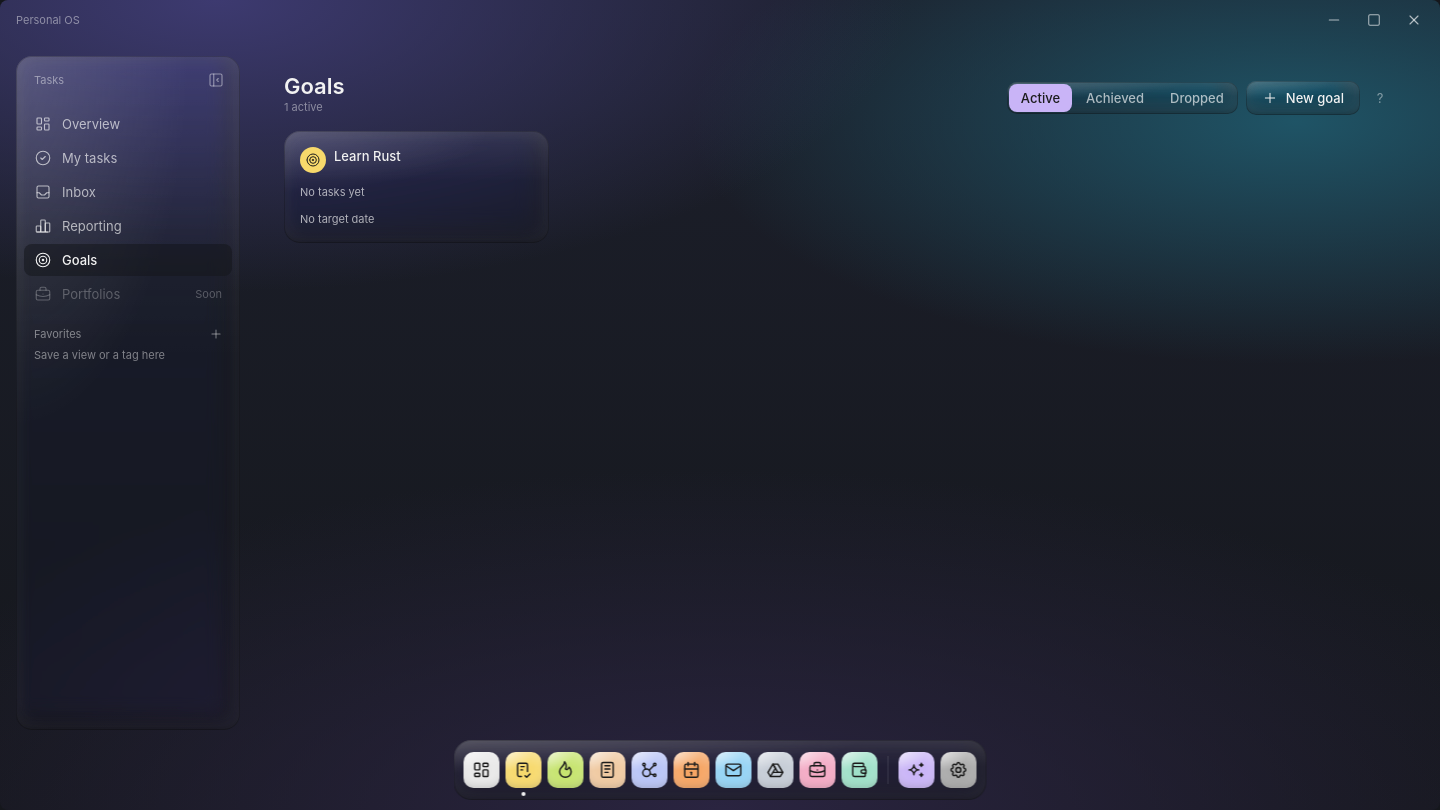
Test case: states › shows the empty line of the Achieved and Dropped tabs
The image size is (1440, 810).
Expected: the link "Learn Rust" is shown, [334,148,401,164]
Click the radio button labelled "Achieved" at (1115, 98), box [1074,84,1156,112]
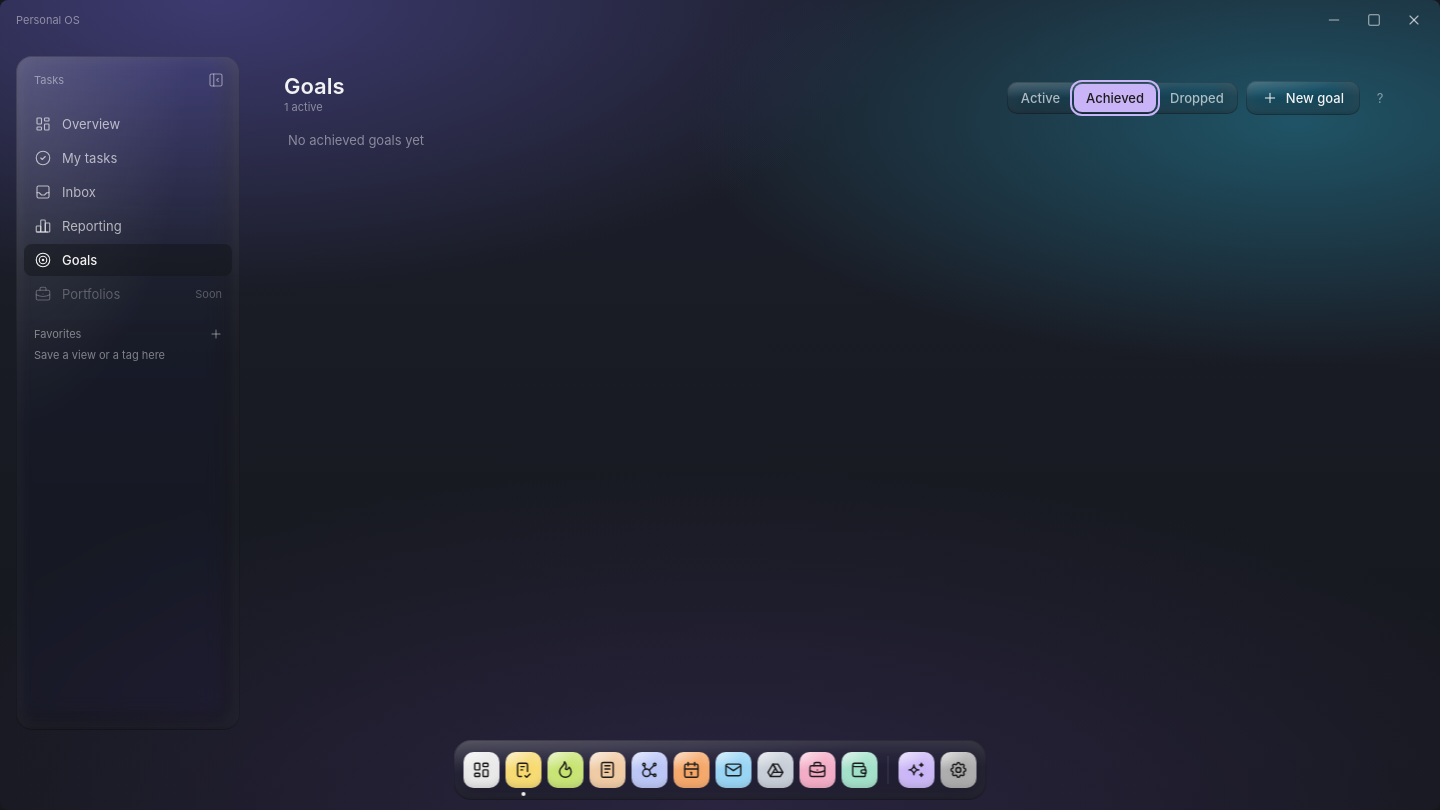
Result: the text "No achieved goals yet" is shown at [288,132,424,148]
Click the radio button labelled "Dropped" at (1197, 98), box [1158,84,1236,112]
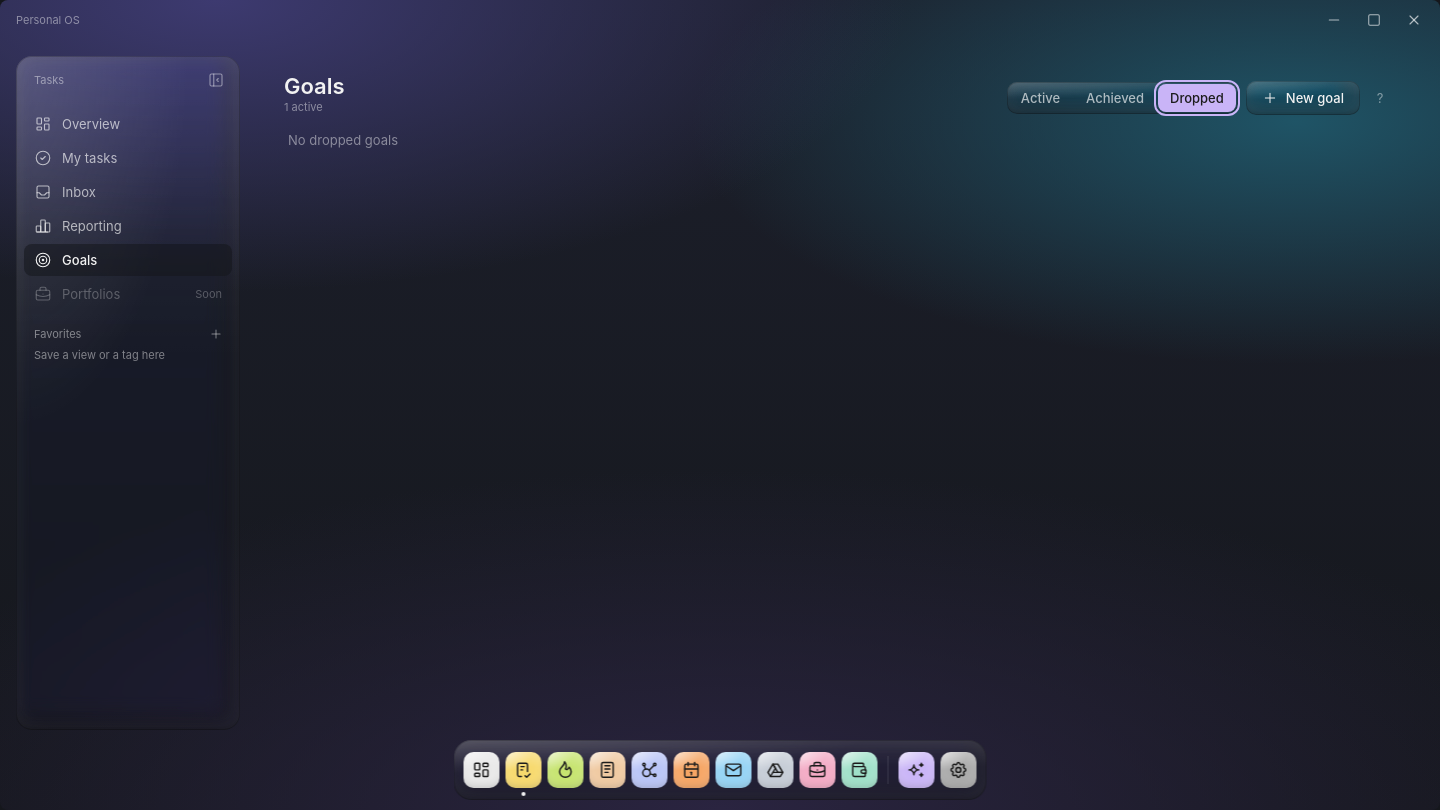
Result: the text "No dropped goals" is shown at [288,132,398,148]
